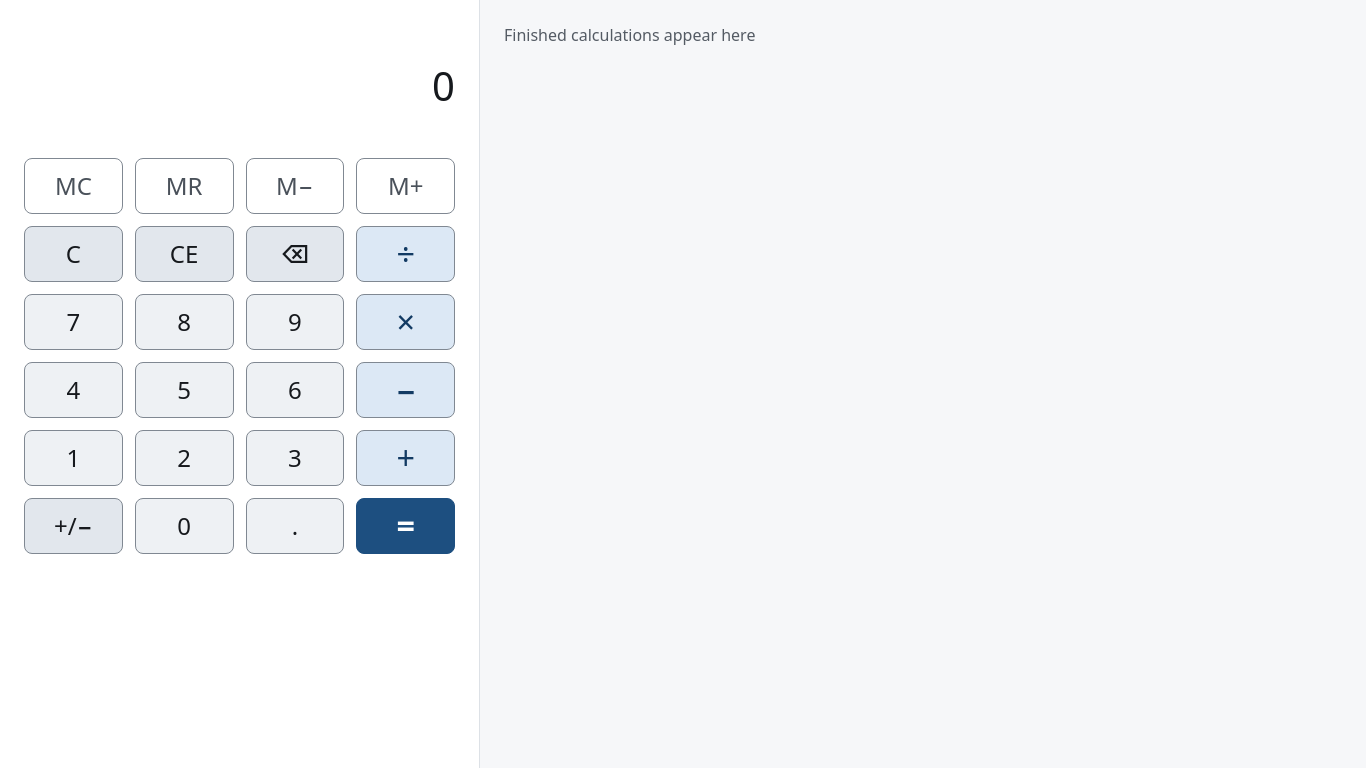
it: S-2 Use the on-screen keys › AC-2.13, AC-10.16: a mouse click leaves no focus, so Enter afterwards is =
Click the button "5".
click(184, 390)  # box top-left (135, 362), bottom-right (234, 418)
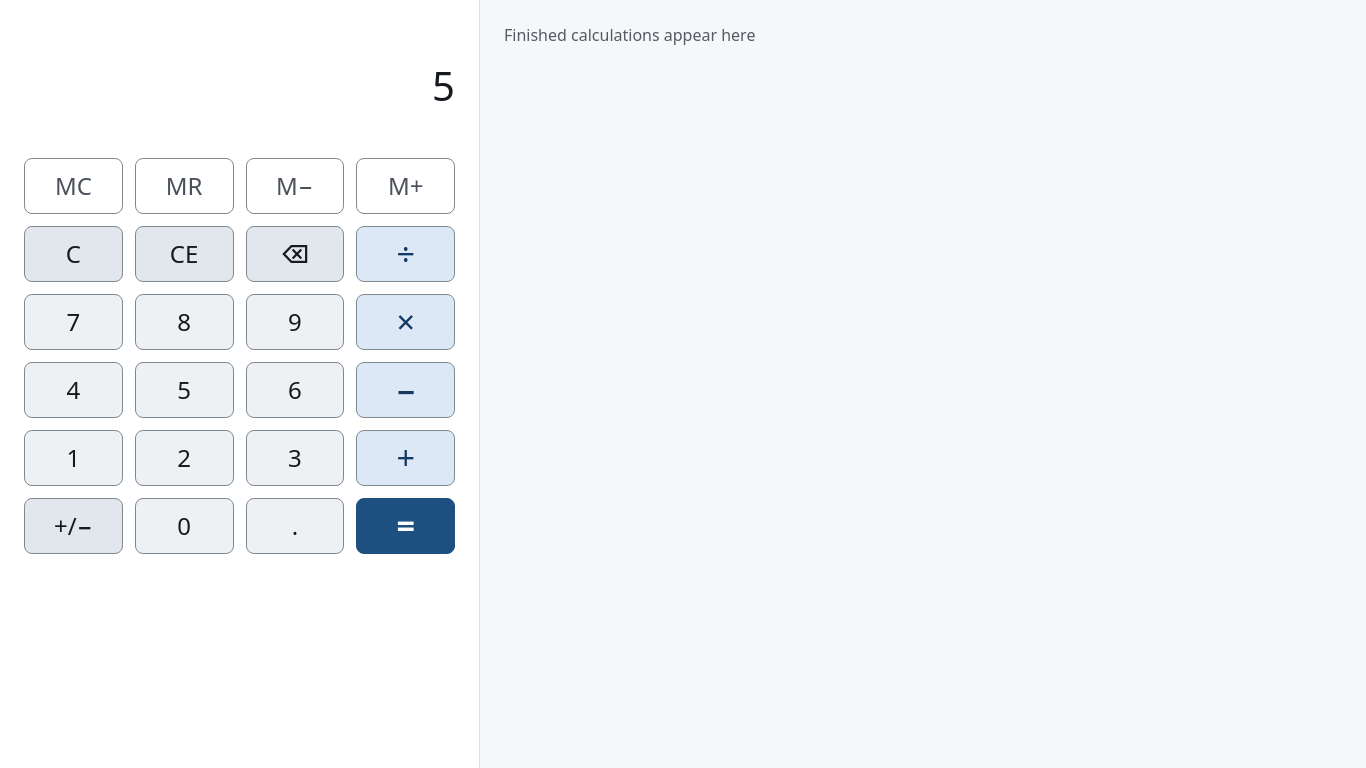
Click the button named "plus".
click(406, 458)  # box top-left (356, 430), bottom-right (455, 486)
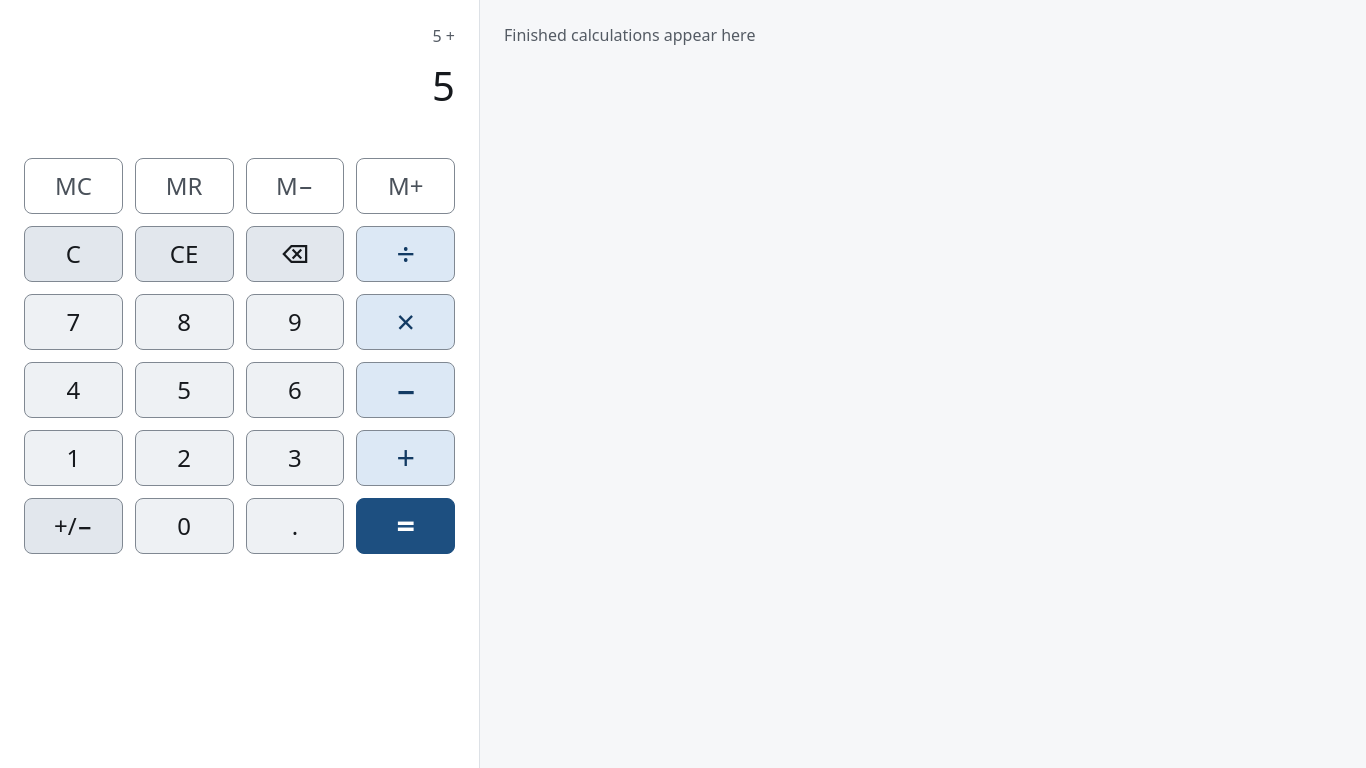
Click the button "7".
click(73, 322)  # box top-left (24, 294), bottom-right (123, 350)
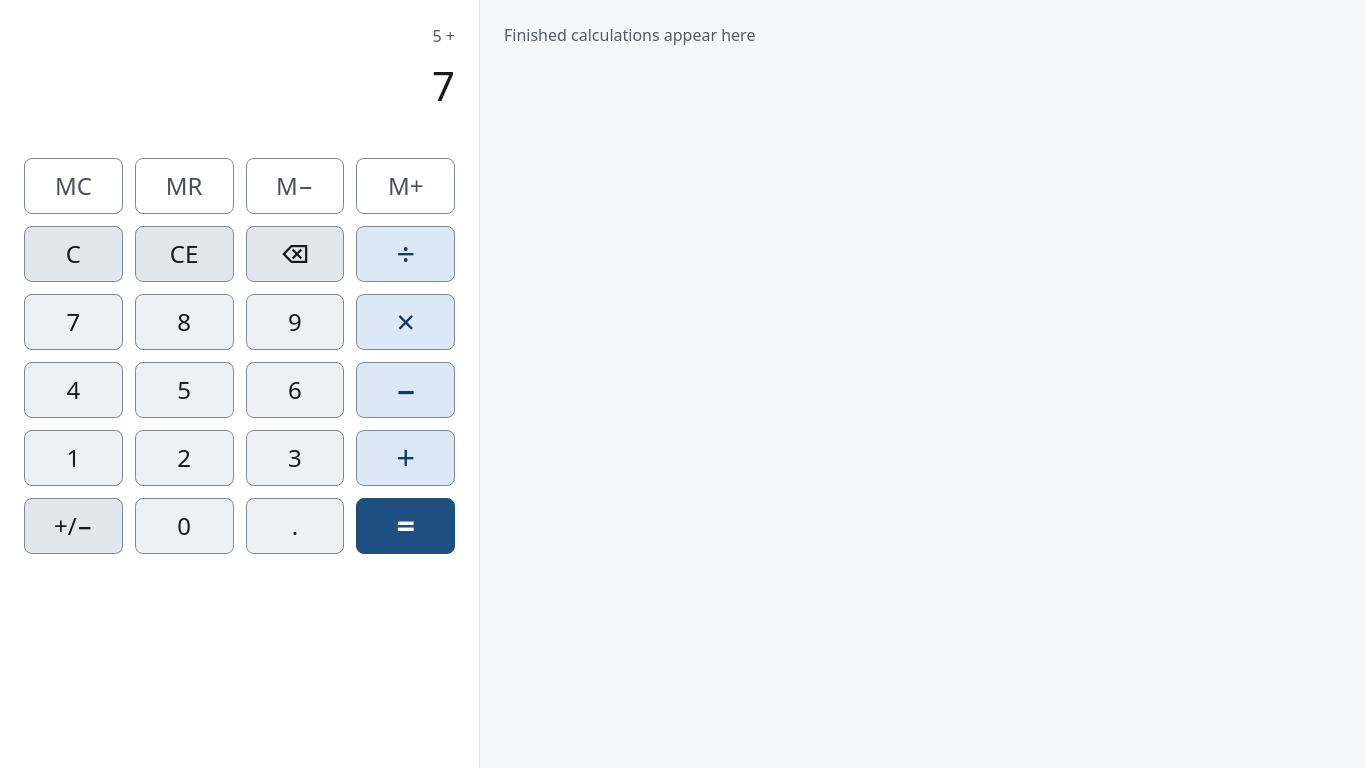
Press Enter
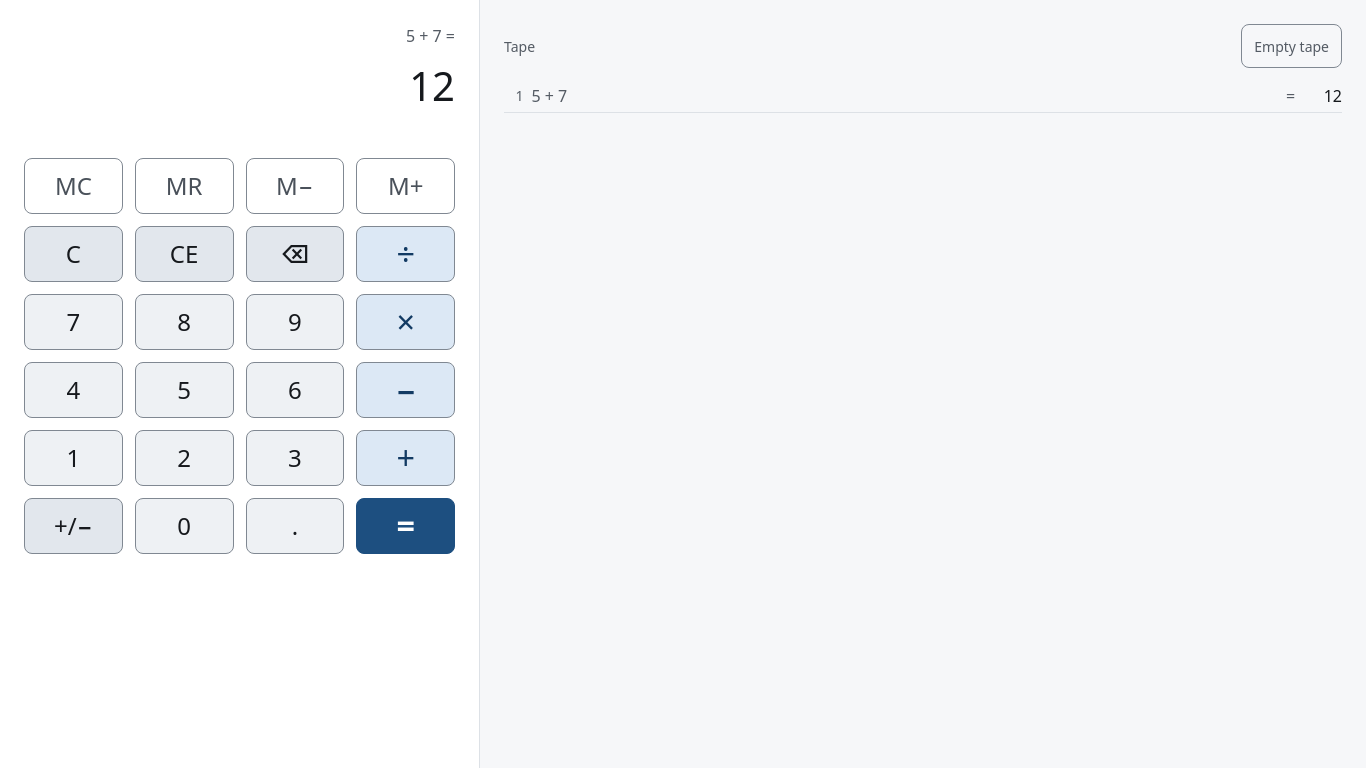
Result: the message reads "12" at top-left (409, 58), bottom-right (455, 113)
